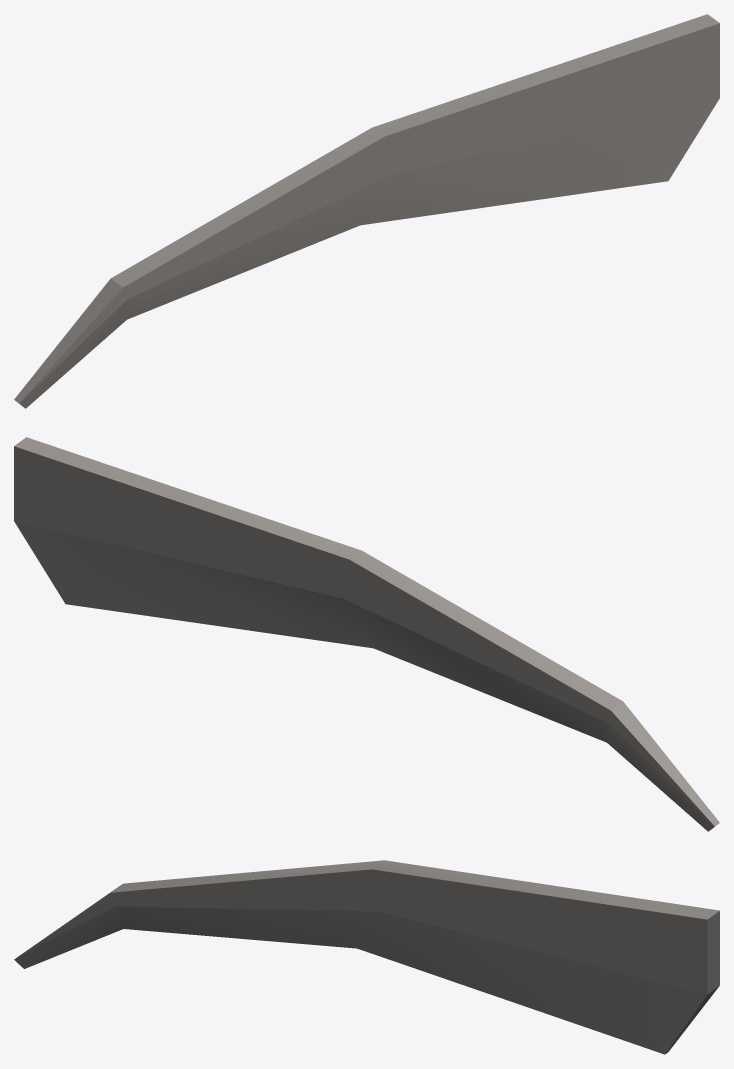
3 views of the same model, one above another, from view 1: azimuth 30°, elevation 25°; view 2: azimuth 150°, elevation 25°; view 3: azimuth 330°, elevation 25° (orthographic).
Parts seen in each view (by area): view 1: Medieval_Material; view 2: Medieval_Material; view 3: Medieval_Material.
Part boxes in pixels (x1,y1,x2,y2): Medieval_Material: (14,14,719,408); Medieval_Material: (14,437,719,831); Medieval_Material: (14,860,719,1054).
Bounding box in the file's own units: 1.56 × 0.4738 × 0.0482.
1 material, 1 textured.
